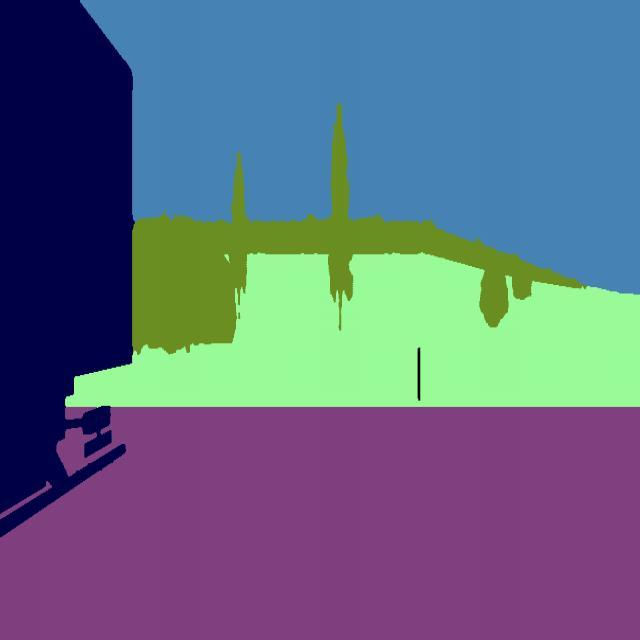unsafe: (0, 0, 137, 555)
